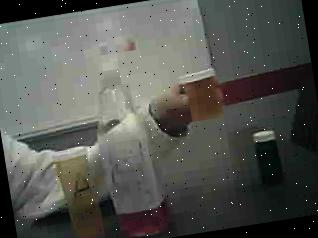Bottle A: (48, 141, 110, 238)
Bottle B: (178, 66, 228, 126)
Bottle C: (248, 123, 290, 193)
hazard: (82, 29, 172, 238)
